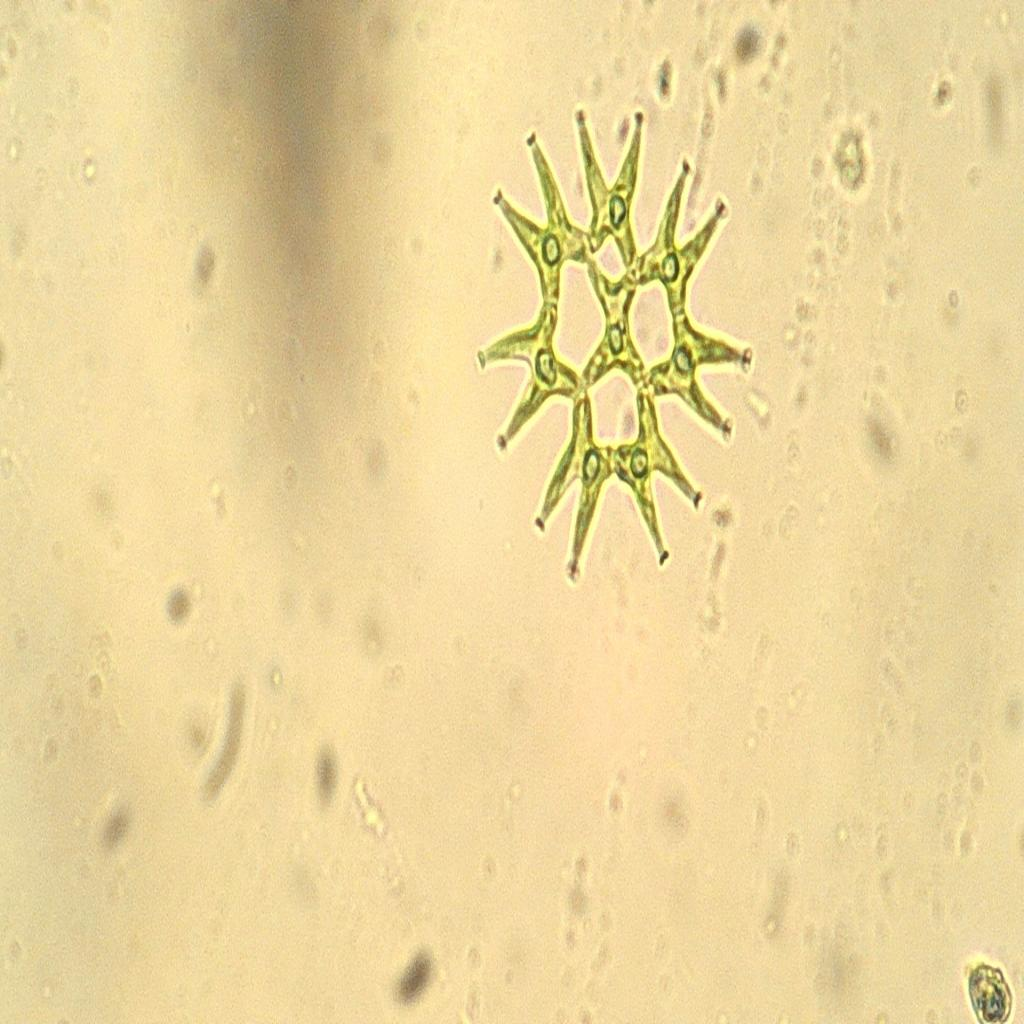Pediastrum_CTH: (472, 90, 762, 604)
